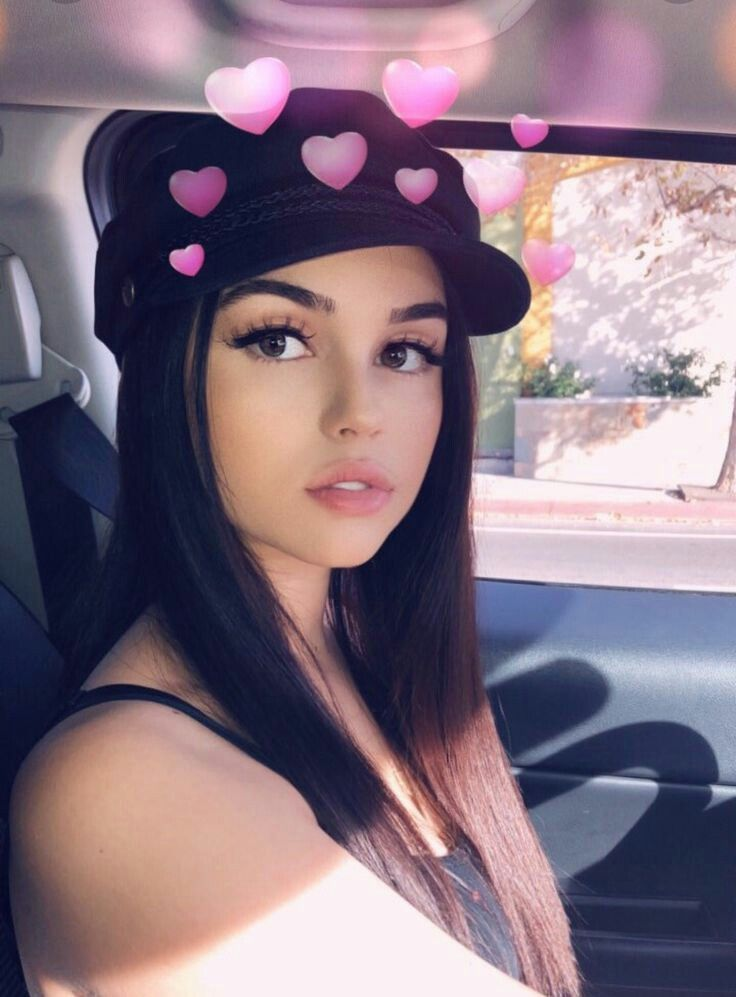GIRL: (192, 226, 460, 576)
